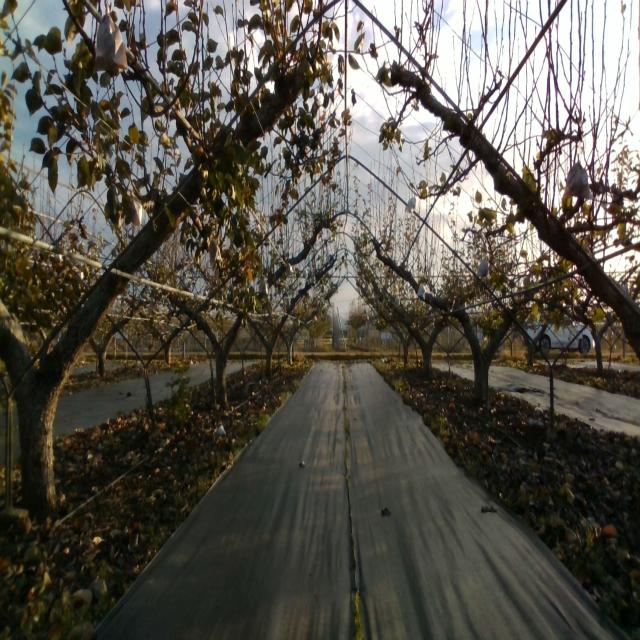pearbags: (93, 3, 129, 74), (565, 153, 591, 200), (129, 189, 144, 226), (476, 258, 489, 276)
